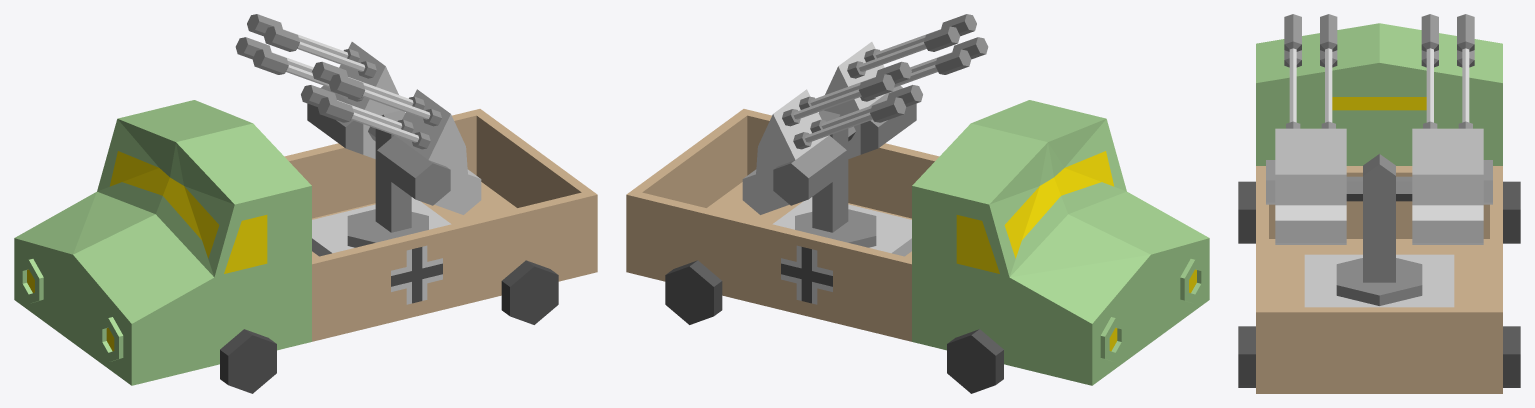
Rendered from AAGun.fbx.
The picture shows the model from 3 angles, left to right: view 1: azimuth 30°, elevation 25°; view 2: azimuth 150°, elevation 25°; view 3: azimuth 270°, elevation 25°; orthographic projection. The views are drawn at different scales.
Visible parts, largest first — view 1: AA Gun; view 2: AA Gun; view 3: AA Gun.
Part boxes in pixels (<box>): AA Gun: <box>14,14,597,393</box>; AA Gun: <box>626,14,1209,393</box>; AA Gun: <box>1238,14,1520,393</box>.
Bounding box in the file's own units: 735 × 408 × 363.
